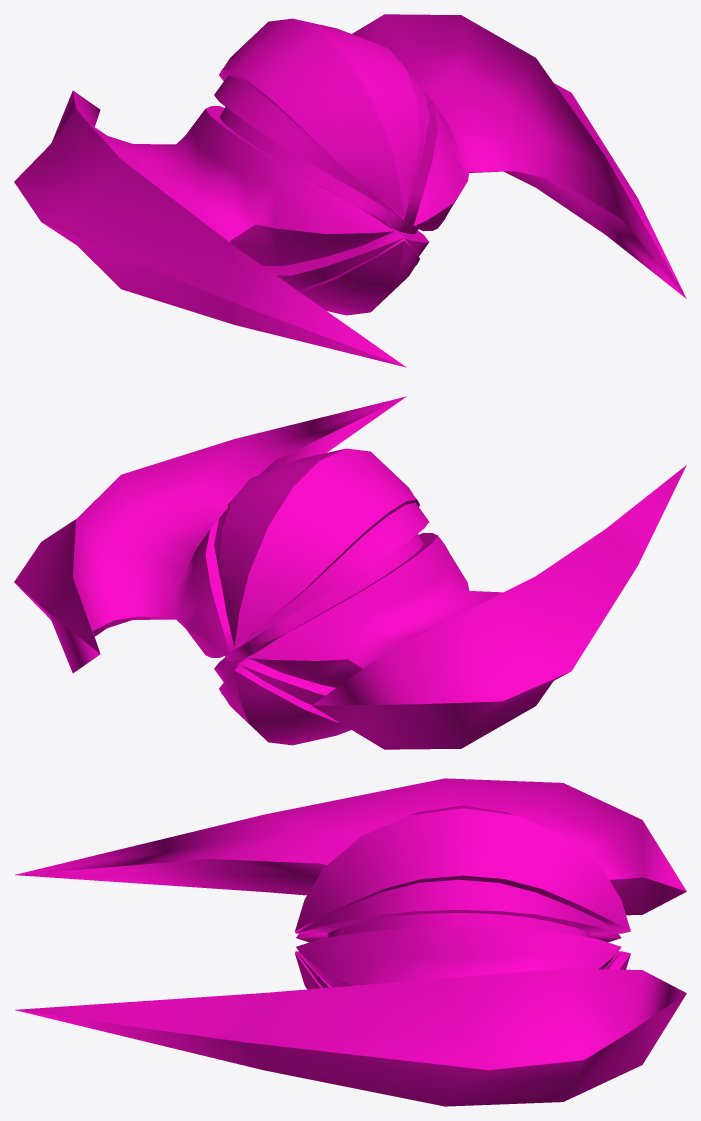
The model's file is Drone_low.FBX.
3 views of the same model, one above another, from view 1: azimuth 30°, elevation 25°; view 2: azimuth 150°, elevation 25°; view 3: azimuth 270°, elevation 25° (orthographic).
Parts seen in each view (by area): view 1: Dron_Low001; view 2: Dron_Low001; view 3: Dron_Low001.
Part boxes in pixels (x1=…): Dron_Low001: x1=14, y1=14, x2=686, y2=367; Dron_Low001: x1=14, y1=396, x2=686, y2=749; Dron_Low001: x1=15, y1=778, x2=686, y2=1106.
Bounding box in the file's own units: 129 × 63.21 × 144.
